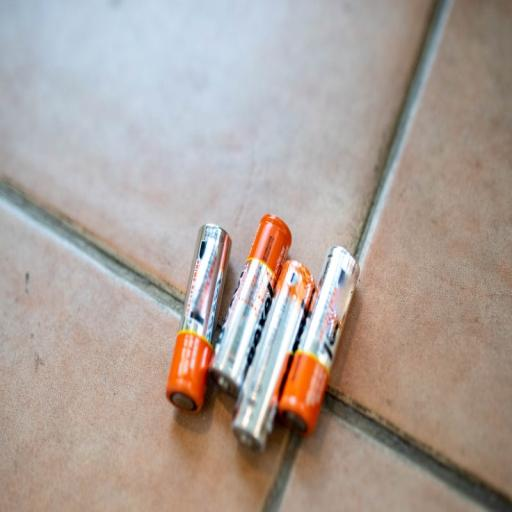battery: (232, 260, 314, 450), (278, 246, 359, 433), (209, 214, 291, 396), (166, 224, 230, 411)
